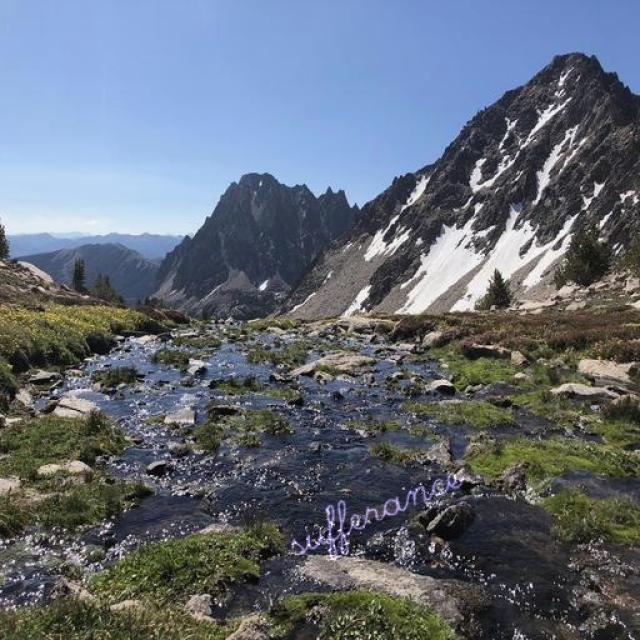watermark: (284, 447, 465, 564)
